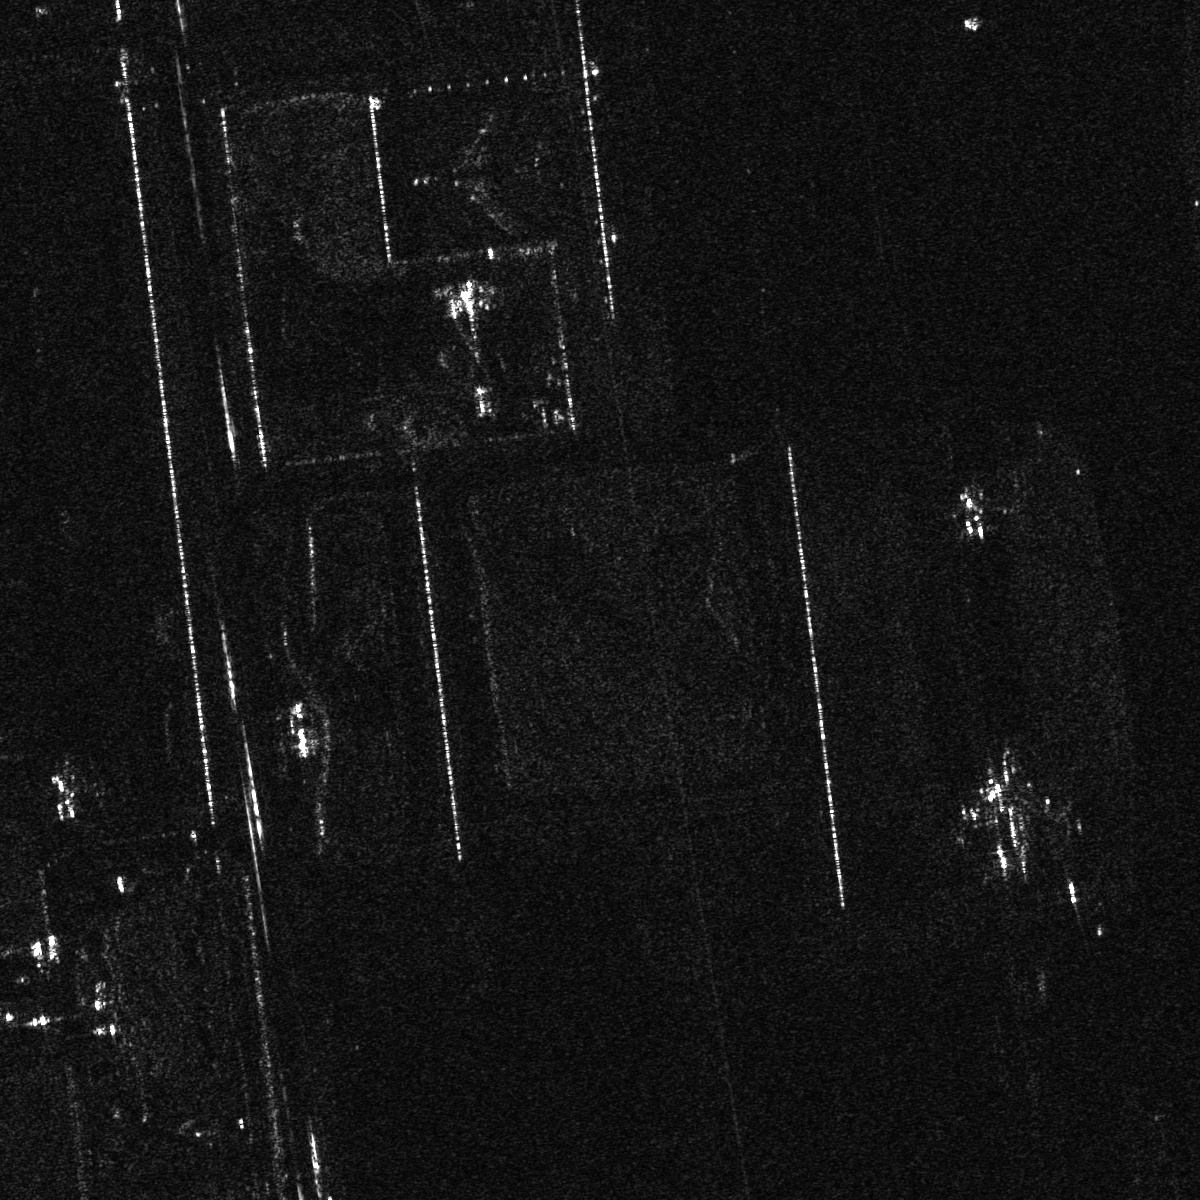A220: (929, 475, 1008, 549), (33, 764, 93, 824)
other: (410, 91, 590, 245), (934, 755, 1082, 887)
